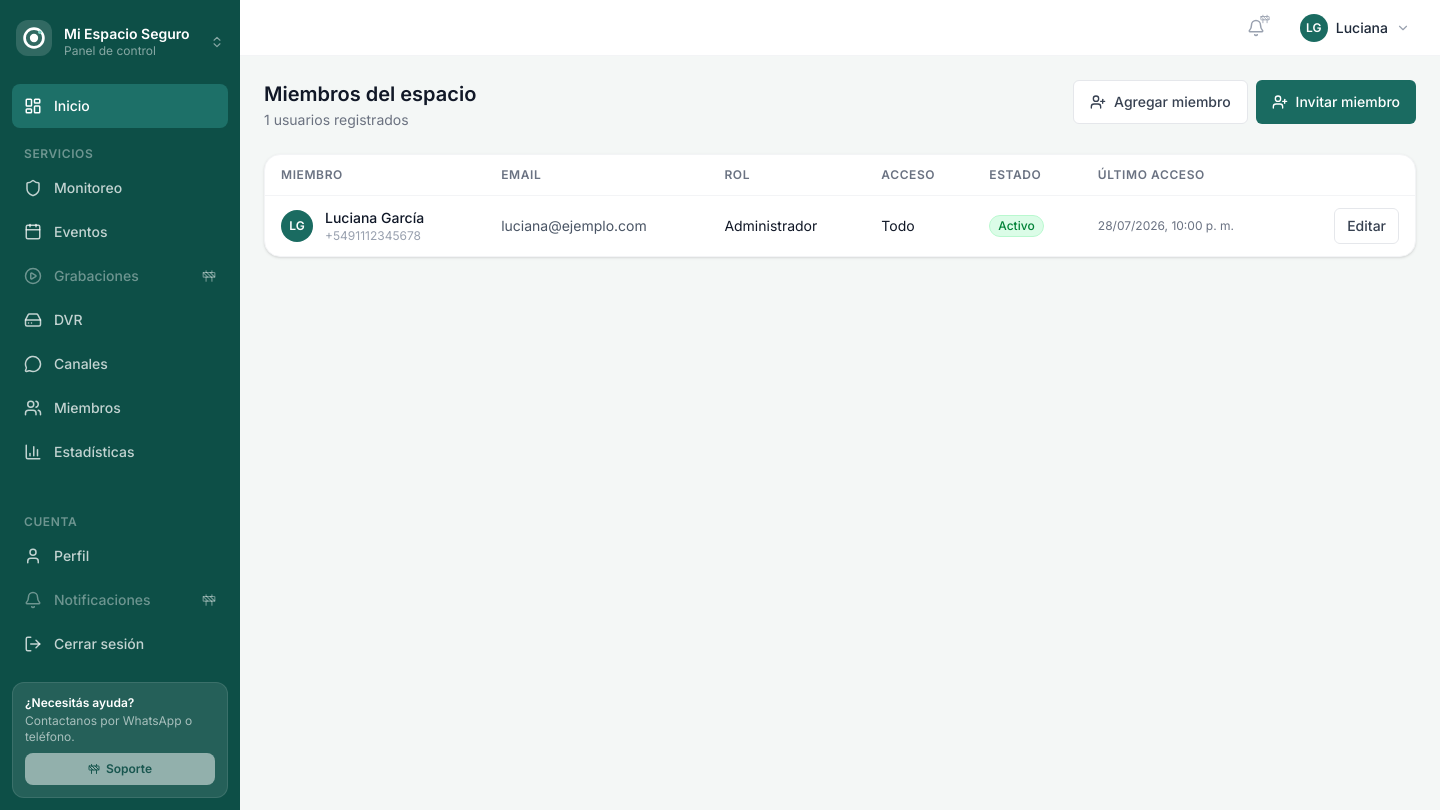
Test case: MembersPage › locks the role and offers no removal on your own row
Click the button with aria-label "Editar luciana@ejemplo.com" at (1367, 226), box [1334,208,1399,244]
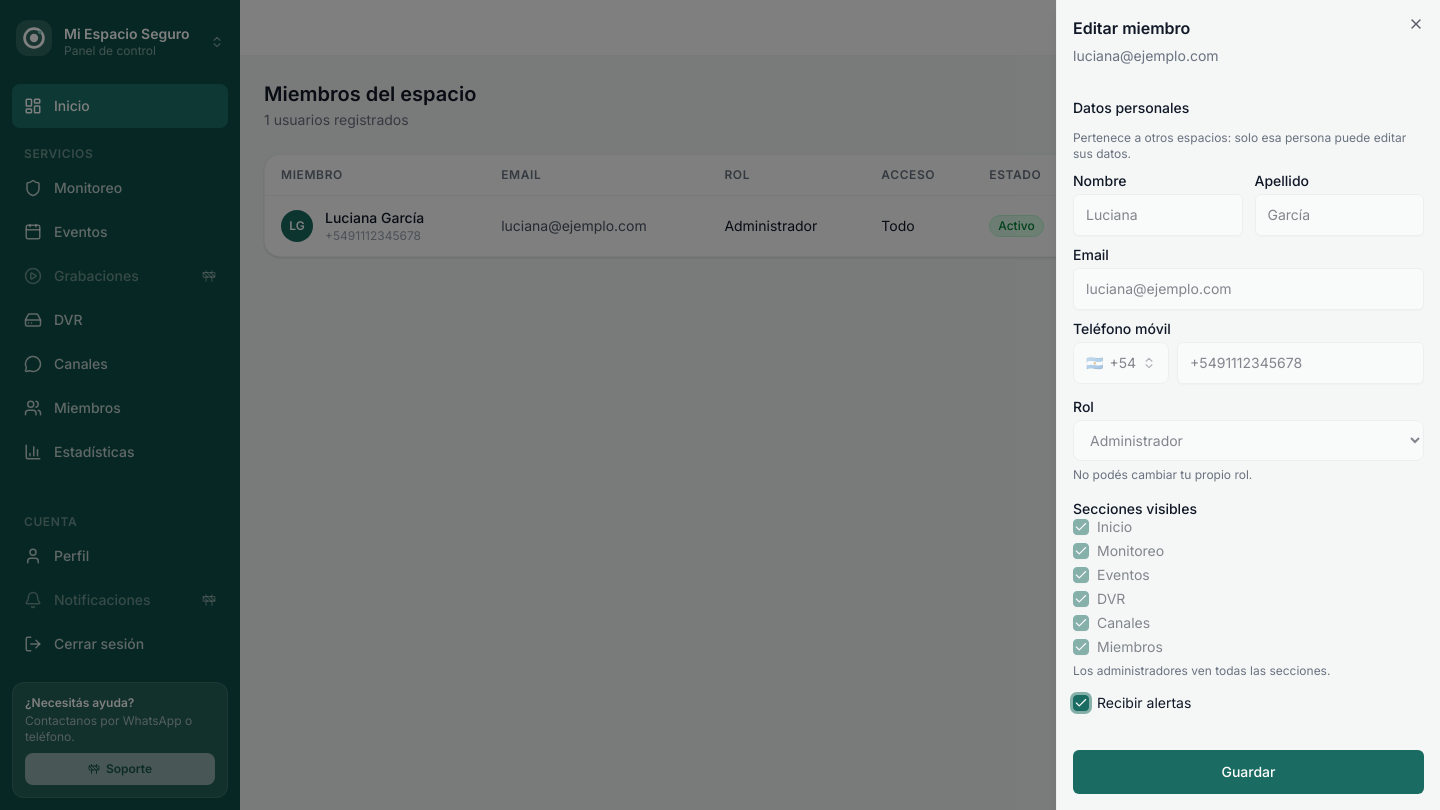
Expected: the dropdown labelled "Rol" is disabled, [1073,420,1424,461]
